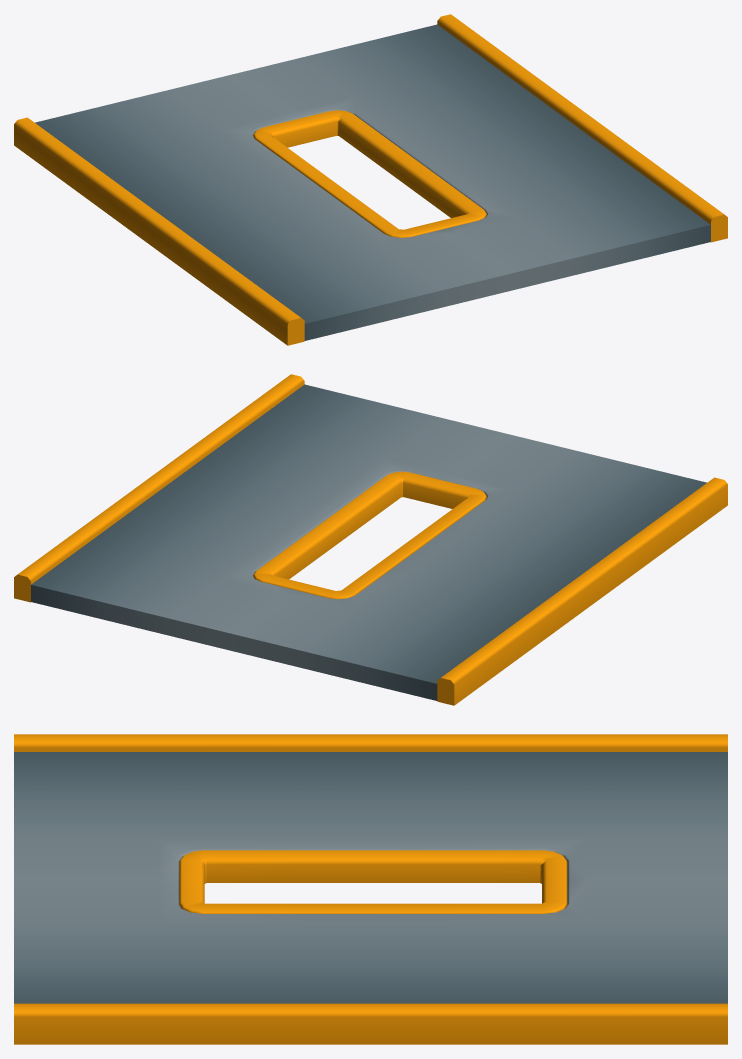
The model's file is platform_005.fbx.
3 views of the same model, one above another, from view 1: azimuth 30°, elevation 25°; view 2: azimuth 150°, elevation 25°; view 3: azimuth 270°, elevation 25° (orthographic). The views are drawn at different scales.
Visible parts, largest first — view 1: platform_005; view 2: platform_005; view 3: platform_005.
Boxes of the visible parts, box(x1,y1,x2,y2) form: platform_005: box(14, 14, 727, 345); platform_005: box(14, 374, 727, 705); platform_005: box(14, 734, 727, 1044).
Bounding box in the file's own units: 1300 × 1400 × 69.59.
